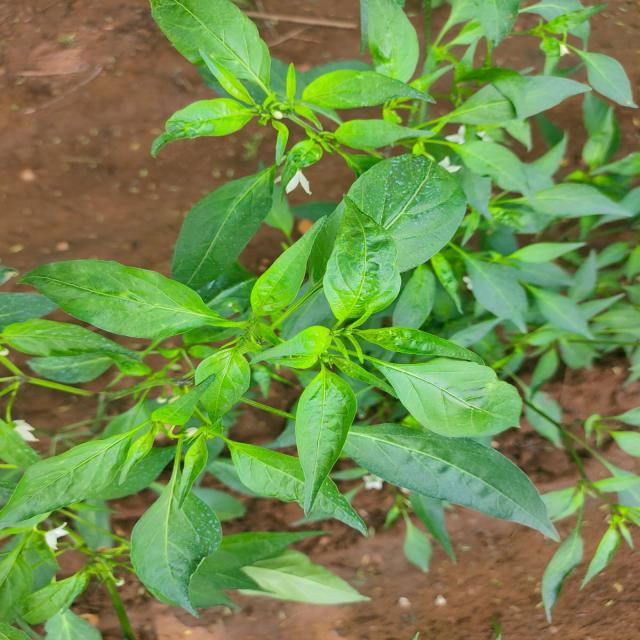Mosaic_virus: (5, 262, 639, 640), (152, 0, 639, 430)
